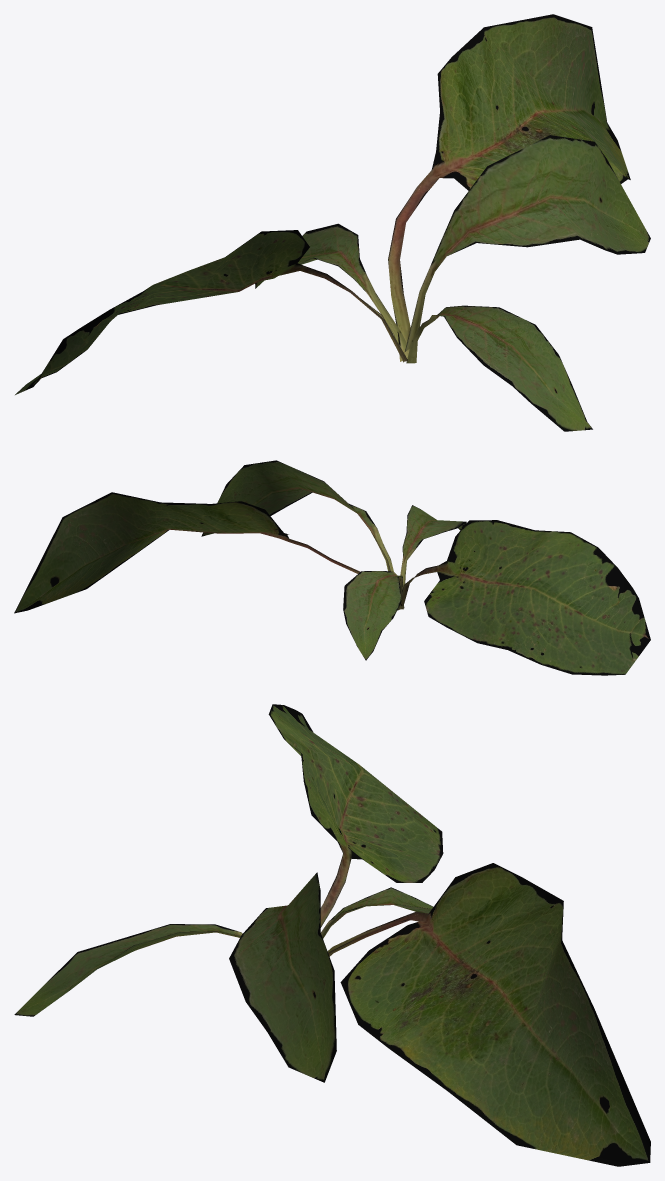
The model's file is weed_plant_02_1k4.glb.
3 renders of one model, top to bottom at view 1: azimuth 30°, elevation 25°; view 2: azimuth 150°, elevation 25°; view 3: azimuth 270°, elevation 25°, orthographic. The views are drawn at different scales.
Parts seen in each view (by area): view 1: weed_plant_02_d_LOD2; view 2: weed_plant_02_d_LOD2; view 3: weed_plant_02_d_LOD2.
Part boxes in pixels (x1,y1,x2,y2): weed_plant_02_d_LOD2: (15,14,650,431); weed_plant_02_d_LOD2: (14,460,650,675); weed_plant_02_d_LOD2: (14,704,650,1166).
Bounding box in the file's own units: 0.1531 × 0.0384 × 0.108.
1 material, 1 textured.
